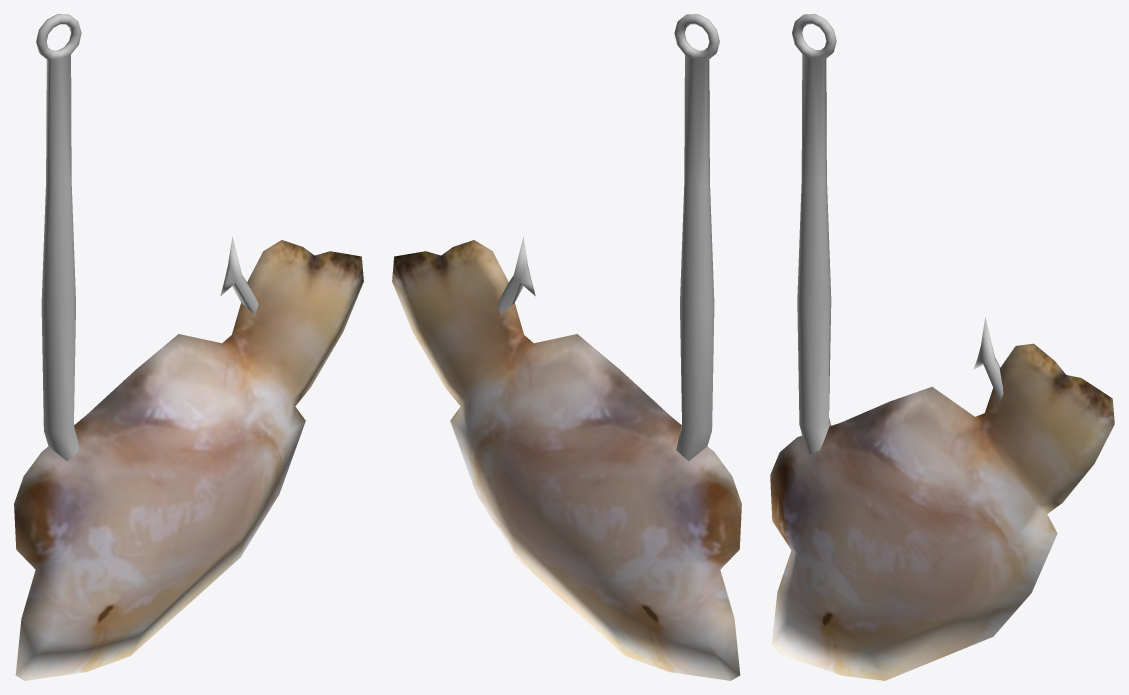
The model's file is Bait_Clam.fbx.
The picture shows the model from 3 angles, left to right: view 1: azimuth 30°, elevation 25°; view 2: azimuth 150°, elevation 25°; view 3: azimuth 330°, elevation 25°; orthographic projection.
Visible parts, largest first — view 1: Bait_Clam; view 2: Bait_Clam; view 3: Bait_Clam.
Boxes of the visible parts, x1,y1,x2,y2 form: Bait_Clam: (14,14,363,680); Bait_Clam: (392,14,741,680); Bait_Clam: (770,14,1114,680).
Bounding box in the file's own units: 0.3124 × 0.567 × 0.0667.
